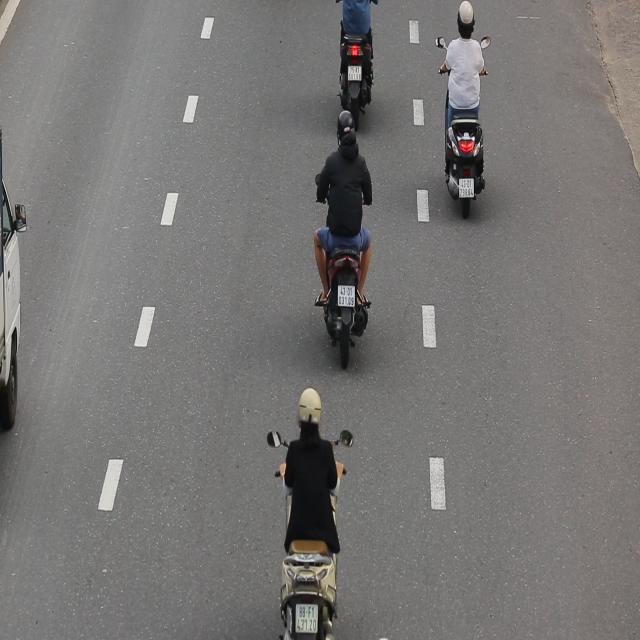motorbike: (302, 101, 380, 377)
